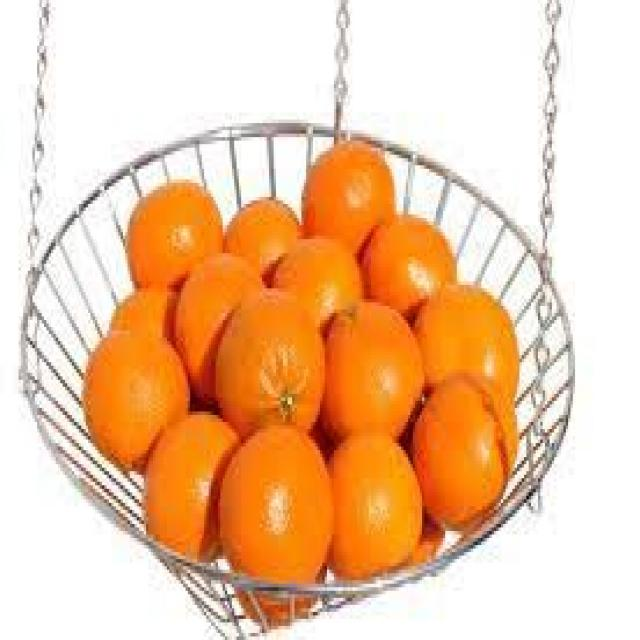organic waste: (209, 418, 329, 591), (139, 408, 241, 570), (218, 284, 320, 446), (318, 302, 424, 443), (410, 376, 508, 524), (79, 334, 190, 464), (413, 285, 519, 418), (167, 257, 264, 390), (123, 179, 223, 306), (324, 440, 418, 570), (299, 140, 394, 250), (362, 218, 452, 324), (272, 232, 360, 317), (222, 200, 294, 282), (232, 574, 318, 622), (109, 288, 176, 334), (413, 514, 443, 548)
